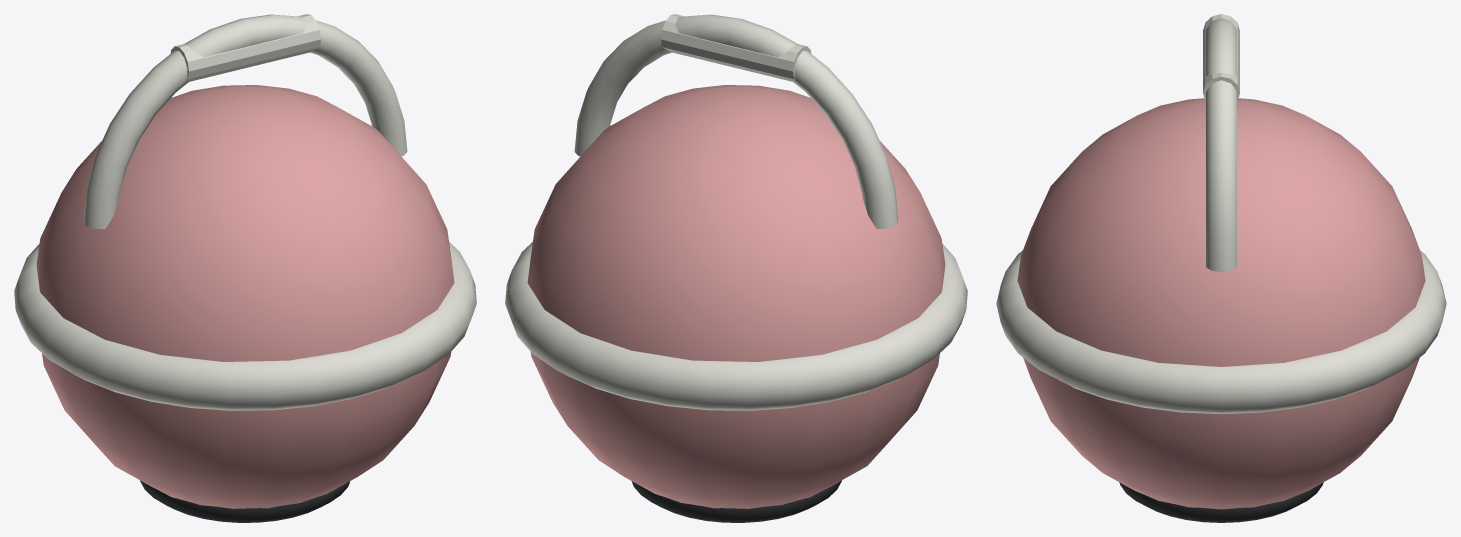
File: game_space_hopper.glb
The picture shows the model from 3 angles, left to right: view 1: azimuth 30°, elevation 25°; view 2: azimuth 150°, elevation 25°; view 3: azimuth 270°, elevation 25°; orthographic projection. The views are drawn at different scales.
Visible parts, largest first — view 1: Hopper ball, Tint.037, Hopper seat ring; view 2: Hopper ball, Tint.037, Hopper seat ring; view 3: Hopper ball, Tint.037, Hopper seat ring.
Boxes of the visible parts, bbox=[...] form: Hopper ball: bbox=[36, 85, 454, 508]; Tint.037: bbox=[14, 14, 476, 410]; Hopper seat ring: bbox=[140, 480, 350, 522]; Hopper ball: bbox=[527, 85, 945, 508]; Tint.037: bbox=[505, 14, 967, 410]; Hopper seat ring: bbox=[631, 480, 841, 522]; Hopper ball: bbox=[1017, 98, 1425, 509]; Tint.037: bbox=[996, 14, 1446, 413]; Hopper seat ring: bbox=[1119, 482, 1323, 522].
Bounding box in the file's own units: 0.608 × 0.682 × 0.608.
